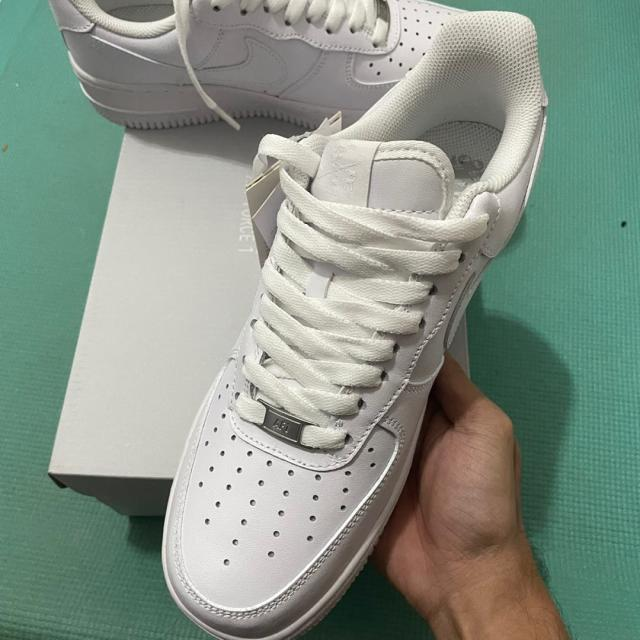nike original air force: (157, 6, 553, 640), (53, 0, 501, 142)
